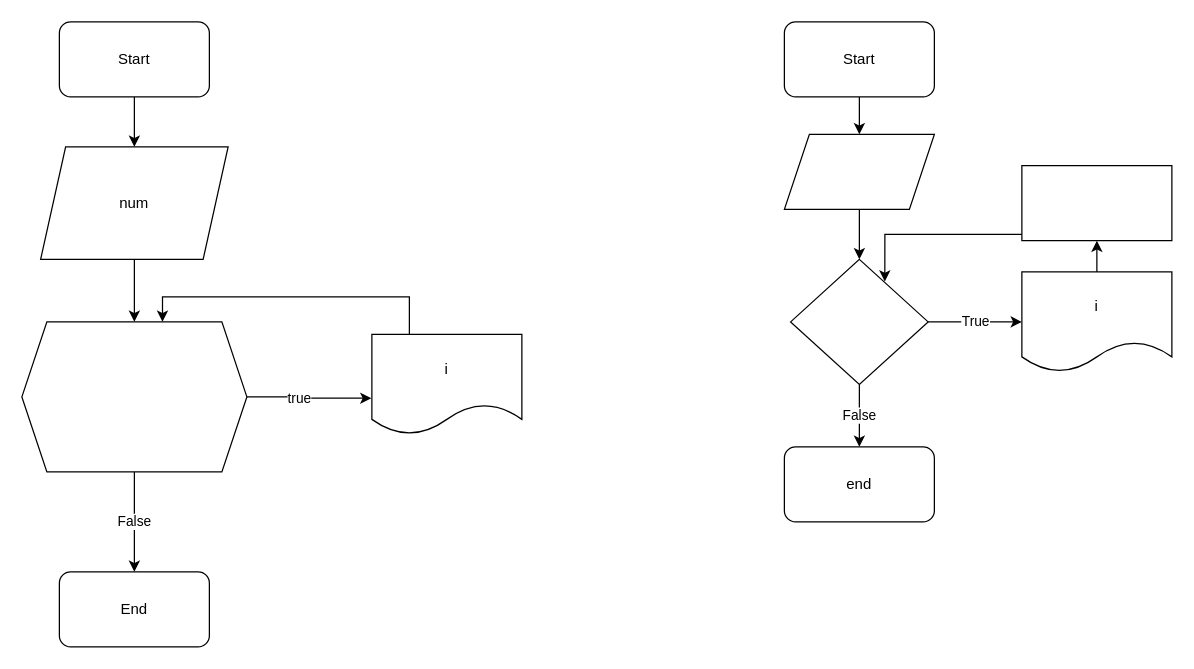
Some shapes in this 1194 by 669 pixel diagram are drawn without their labels. Each missing label, with the box of its shape:
i++: (1021, 164, 1172, 241)
i<num: (789, 258, 928, 384)
i=0; i<num; i++;: (21, 321, 247, 472)
num i=0: (783, 133, 934, 209)
